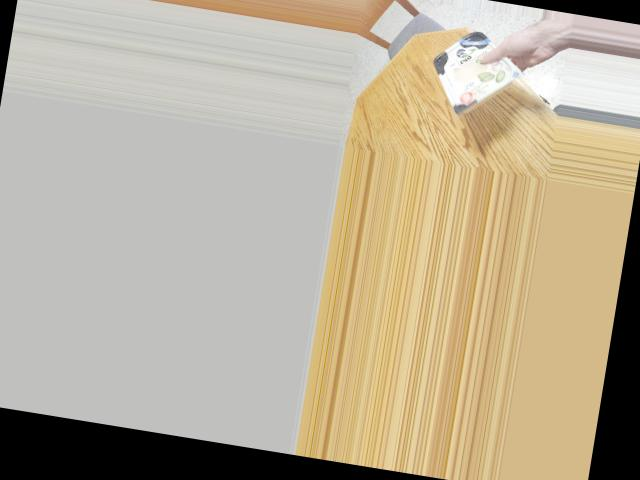cheese: (429, 36, 518, 109)
